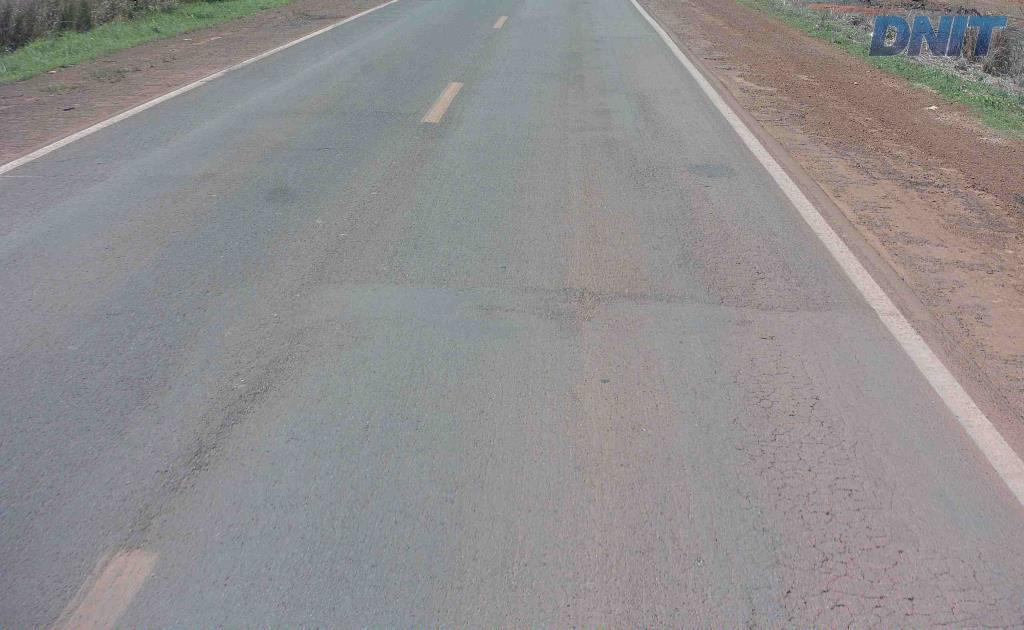crack: (762, 534, 816, 585)
